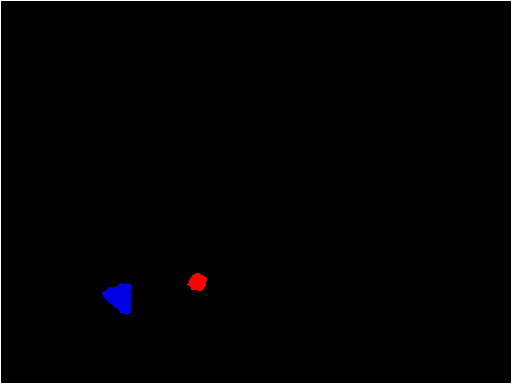chipped: (107, 284, 130, 310)
detached: (190, 273, 204, 288)
